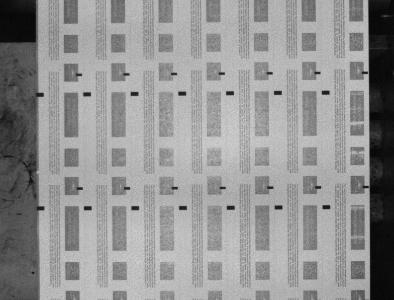backgroundclutter: (31, 271, 35, 274)
qblock: (36, 92, 44, 97), (179, 205, 187, 210), (37, 206, 45, 210), (83, 92, 91, 96), (322, 90, 330, 94), (131, 92, 139, 96), (274, 91, 282, 95), (179, 91, 187, 95), (84, 206, 92, 210), (323, 205, 331, 209), (131, 206, 139, 210), (275, 205, 283, 209), (227, 205, 235, 209), (227, 91, 234, 95)
smallqblock: (123, 73, 130, 76), (171, 72, 178, 75), (219, 72, 226, 75), (362, 71, 369, 74), (124, 187, 131, 190), (267, 186, 274, 189), (315, 186, 322, 189), (363, 185, 370, 188), (76, 73, 82, 76), (267, 72, 273, 75), (315, 71, 321, 74), (77, 187, 83, 190), (172, 187, 178, 190), (220, 186, 226, 189)
